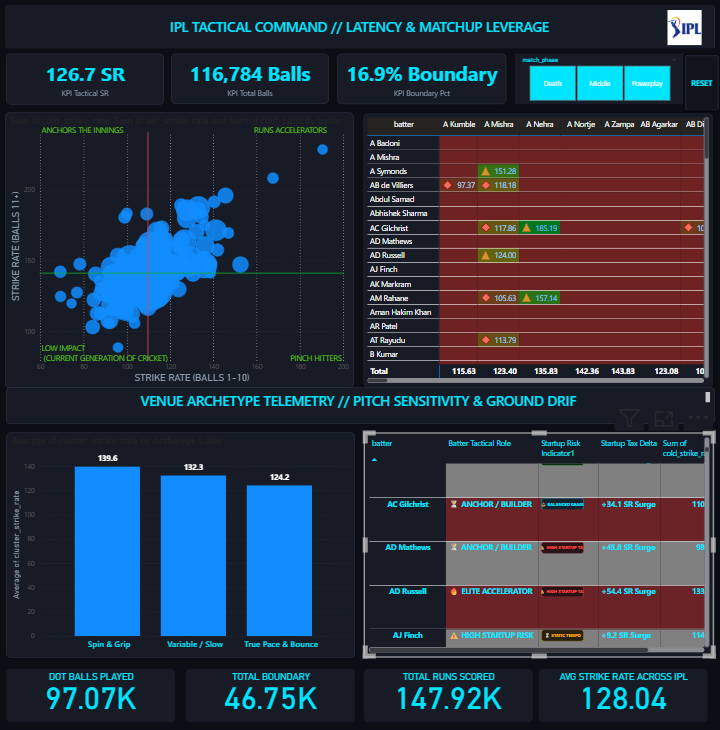

What the dashboard file says about the page in this screenshot:
{"tool":"powerbi","page":{"name":"Page 1","canvas":[1280,1300],"ordinal":0},"visuals":[{"type":"shape","box":[10,10,1260,75],"z":0},{"type":"textbox","box":[9.6,9.6,1259.7,75.5],"z":1000},{"type":"actionButton","box":[1185.7,17.9,60.7,62.5],"z":2000},{"type":"card","fields":{"Values":["_TacticalMeasures.KPI Tactical SR"]},"box":[10,95,280,90],"z":3000},{"type":"card","fields":{"Values":["_TacticalMeasures.KPI Total Balls"]},"box":[304.6,96.1,279.9,89.2],"z":4000},{"type":"card","fields":{"Values":["_TacticalMeasures.KPI Boundary Pct"]},"box":[600,96.6,300,89.8],"z":5000},{"type":"scatterChart","fields":{"Category":["a.batter"],"X":["Sum(a.cold_strike_rate)"],"Y":["Sum(a.set_strike_rate)"],"Size":["Sum(a.cold_balls)"]},"box":[9.6,200.3,620.2,489.9],"z":6000},{"type":"pivotTable","fields":{"Rows":["b.batter"],"Columns":["b.bowler"],"Values":["_TacticalMeasures.Tactical SR8"]},"box":[645,200,625,490],"z":7000},{"type":"slicer","fields":{"Values":["b.match_phase"]},"box":[915.3,96.6,300,89.8],"z":8000},{"type":"textbox","box":[10.2,689.8,1259.3,64.4],"z":9000},{"type":"clusteredColumnChart","fields":{"Y":["Avg(c.cluster_strike_rate)"],"Category":["c.Archetype Label"]},"box":[10.2,769.5,620.3,400],"z":10000},{"type":"textbox","box":[446.2,200,183.5,60.4],"z":11000},{"type":"textbox","box":[69.2,200,183.5,60.4],"z":12000},{"type":"textbox","box":[69.5,586.4,325.4,79.7],"z":13000},{"type":"textbox","box":[512.1,604.4,109.9,60.4],"z":14000},{"type":"actionButton","box":[1215.3,96.6,64.4,103.4],"z":14001},{"type":"tableEx","fields":{"Values":["a.batter","_TacticalMeasures.Batter Tactical Role","_TacticalMeasures.Startup Risk Indicator1","_TacticalMeasures.Startup Tax Delta","Sum(a.cold_strike_rate)","Sum(a.set_strike_rate)"]},"box":[645.8,769.5,623.7,400],"z":14002},{"type":"card","title":"DOT BALLS PLAYED","fields":{"Values":["Sum(b.dot_pct)"]},"box":[11.9,1189.8,300,94.9],"z":14003},{"type":"card","title":"TOTAL BOUNDARY","fields":{"Values":["Sum(b.boundary_pct)"]},"box":[330.5,1189.8,300,94.9],"z":14004},{"type":"card","title":"TOTAL RUNS SCORED","fields":{"Values":["Sum(b.runs_scored)"]},"box":[645.8,1189.8,300,94.9],"z":14005},{"type":"card","title":"AVG STRIKE RATE ACROSS IPL","fields":{"Values":["Avg(b.strike_rate)"]},"box":[957.6,1189.8,300,94.9],"z":14006}]}

Visuals, with their boxes in screenshot pixels (x1, y1, x2, y2), scaled from the page's 1280x1300 canvas onto the 720x730 screenshot:
shape: 6:6:714:48
textbox: 5:5:714:48
actionButton: 667:10:701:45
card - _TacticalMeasures.KPI Tactical SR: 6:53:163:104
card - _TacticalMeasures.KPI Total Balls: 171:54:329:104
card - _TacticalMeasures.KPI Boundary Pct: 338:54:506:105
scatterChart - a.batter x Sum(a.cold_strike_rate): 5:112:354:388
pivotTable - b.batter x b.bowler: 363:112:714:387
slicer - b.match_phase: 515:54:684:105
textbox: 6:387:714:424
clusteredColumnChart - Avg(c.cluster_strike_rate) x c.Archetype Label: 6:432:355:657
textbox: 251:112:354:146
textbox: 39:112:142:146
textbox: 39:329:222:374
textbox: 288:339:350:373
actionButton: 684:54:719:112
tableEx - a.batter x _TacticalMeasures.Batter Tactical Role: 363:432:714:657
"DOT BALLS PLAYED" card: 7:668:175:721
"TOTAL BOUNDARY" card: 186:668:355:721
"TOTAL RUNS SCORED" card: 363:668:532:721
"AVG STRIKE RATE ACROSS IPL" card: 539:668:707:721
